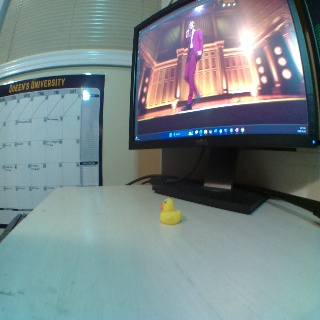duck_regular: (159, 195, 181, 224)
